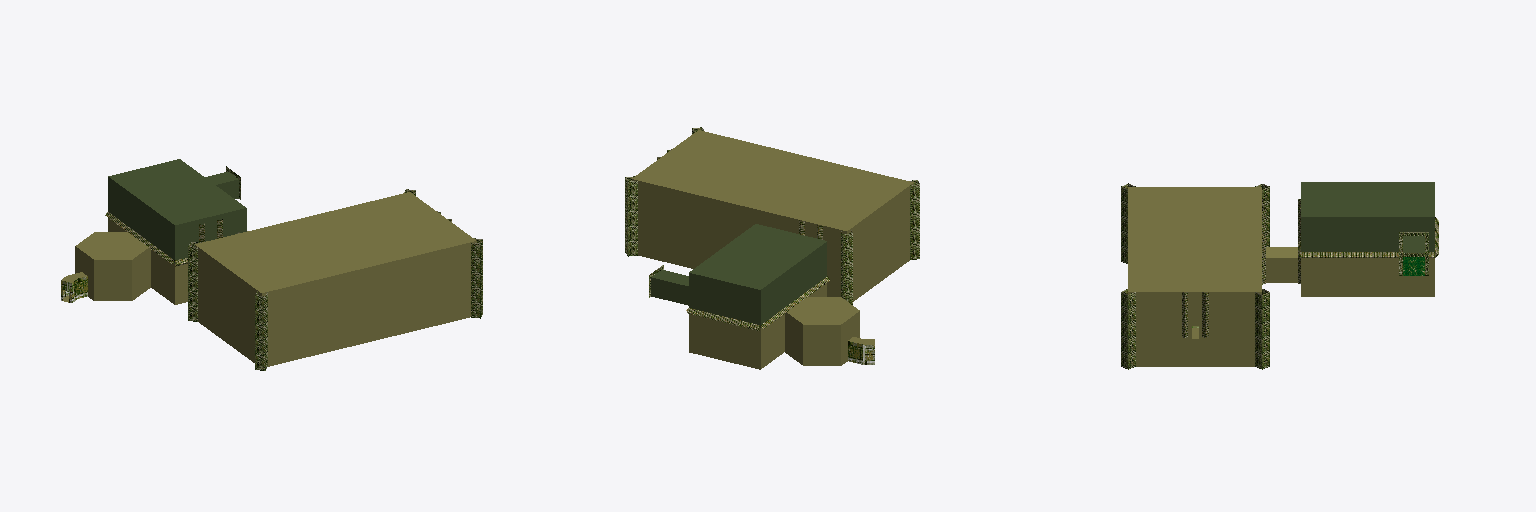
3 views of the same model, side by side, from view 1: azimuth 30°, elevation 25°; view 2: azimuth 150°, elevation 25°; view 3: azimuth 270°, elevation 25° (orthographic).
Parts seen in each view (by area): view 1: mesh.011_mesh.011__42.014_mesh.011_mesh.011__42.014__42.014, mesh.011_mesh.011__31.002_mesh.011_mesh.011__31.002__31.002, mesh.011_mesh.011__17.005_mesh.011_mesh.011__17.005__17.005, mesh.011_mesh.011__47.008_mesh.011_mesh.011__47.008__47.008; view 2: mesh.011_mesh.011__42.014_mesh.011_mesh.011__42.014__42.014, mesh.011_mesh.011__31.002_mesh.011_mesh.011__31.002__31.002, mesh.011_mesh.011__17.005_mesh.011_mesh.011__17.005__17.005, mesh.011_mesh.011__47.008_mesh.011_mesh.011__47.008__47.008, mesh.011_mesh.011__48.008_mesh.011_mesh.011__48.008__48.008; view 3: mesh.011_mesh.011__42.014_mesh.011_mesh.011__42.014__42.014, mesh.011_mesh.011__31.002_mesh.011_mesh.011__31.002__31.002, mesh.011_mesh.011__17.005_mesh.011_mesh.011__17.005__17.005, mesh.011_mesh.011__47.008_mesh.011_mesh.011__47.008__47.008.
Part boxes in pixels (bbox=[...]): mesh.011_mesh.011__42.014_mesh.011_mesh.011__42.014__42.014: bbox=[62, 192, 476, 366]; mesh.011_mesh.011__31.002_mesh.011_mesh.011__31.002__31.002: bbox=[108, 159, 246, 263]; mesh.011_mesh.011__17.005_mesh.011_mesh.011__17.005__17.005: bbox=[188, 166, 482, 370]; mesh.011_mesh.011__47.008_mesh.011_mesh.011__47.008__47.008: bbox=[105, 211, 451, 266]; mesh.011_mesh.011__42.014_mesh.011_mesh.011__42.014__42.014: bbox=[632, 130, 913, 369]; mesh.011_mesh.011__31.002_mesh.011_mesh.011__31.002__31.002: bbox=[651, 224, 826, 327]; mesh.011_mesh.011__17.005_mesh.011_mesh.011__17.005__17.005: bbox=[625, 127, 919, 304]; mesh.011_mesh.011__47.008_mesh.011_mesh.011__47.008__47.008: bbox=[657, 149, 829, 330]; mesh.011_mesh.011__48.008_mesh.011_mesh.011__48.008__48.008: bbox=[848, 341, 874, 364]; mesh.011_mesh.011__42.014_mesh.011_mesh.011__42.014__42.014: bbox=[1128, 187, 1434, 366]; mesh.011_mesh.011__31.002_mesh.011_mesh.011__31.002__31.002: bbox=[1301, 182, 1434, 252]; mesh.011_mesh.011__17.005_mesh.011_mesh.011__17.005__17.005: bbox=[1121, 183, 1428, 369]; mesh.011_mesh.011__47.008_mesh.011_mesh.011__47.008__47.008: bbox=[1182, 198, 1438, 337].
Bounding box in the file's own units: 2840 × 714 × 2579.
Materials: 9 (5 with a texture image).